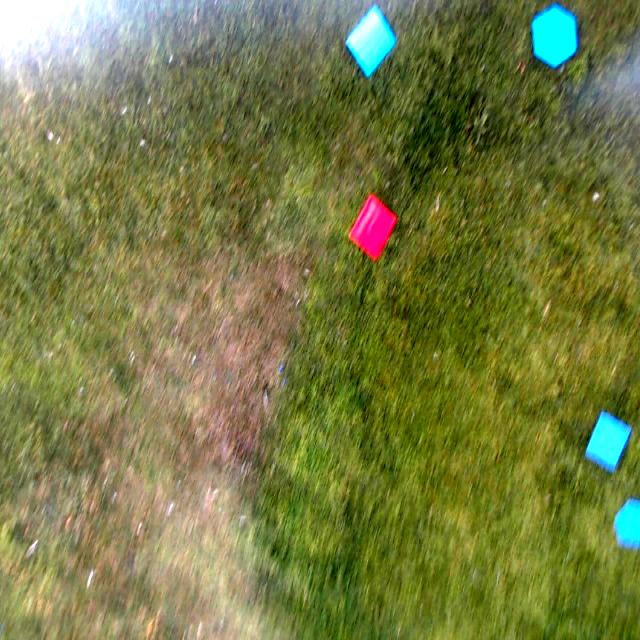blue_hexagon: (531, 5, 577, 69)
blue_square: (346, 6, 396, 76), (587, 410, 629, 470)
red_square: (352, 198, 394, 256)
